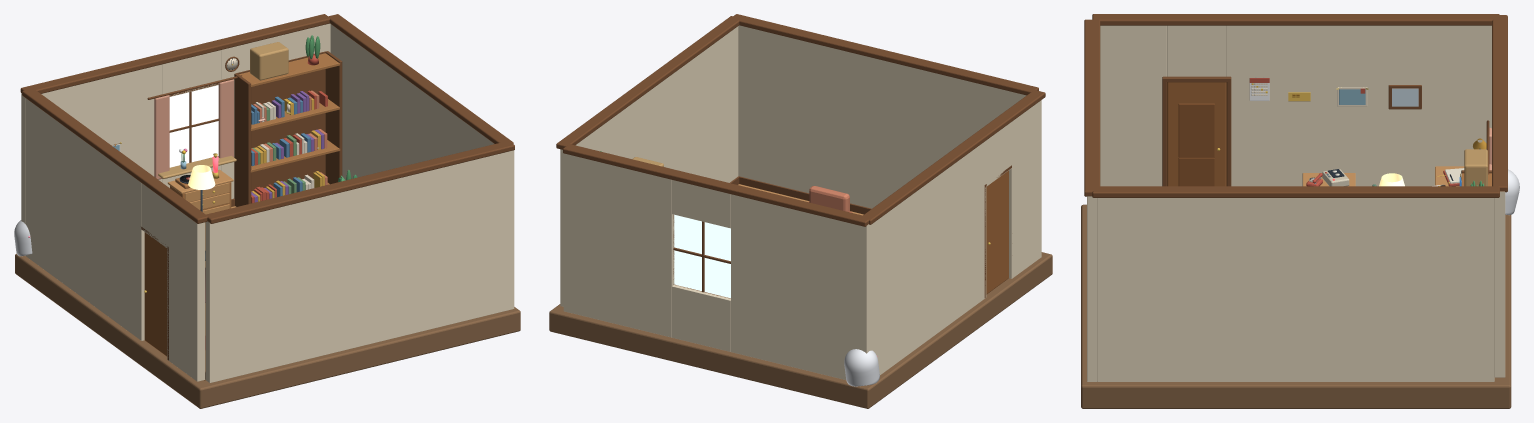
The model's file is room_cabin.glb.
3 renders of one model, left to right at view 1: azimuth 30°, elevation 25°; view 2: azimuth 150°, elevation 25°; view 3: azimuth 270°, elevation 25°, orthographic. The views are drawn at different scales.
Visible parts, largest first — view 1: wall_front, wall_left, wall_back, wall_right, slab, back.002, window_glass, window_curtains, leaf, side, side.001, wicker (+6 smaller); view 2: wall_back, wall_front, wall_left, wall_right, slab, window_glass, leaf, body.005, back.003, window_frame; view 3: wall_right, wall_left, slab, wall_front, wall_back, leaf, panel-top, door_frame, panel-bottom, wicker, photo, body.005 (+2 smaller).
Boxes of the visible parts, bbox=[...] form: wall_front: bbox=[205, 141, 514, 382]; wall_left: bbox=[22, 89, 207, 381]; wall_back: bbox=[20, 14, 330, 255]; wall_right: bbox=[328, 14, 513, 180]; slab: bbox=[15, 253, 520, 408]; back.002: bbox=[236, 51, 325, 191]; window_glass: bbox=[169, 85, 218, 167]; window_curtains: bbox=[147, 75, 242, 179]; leaf: bbox=[144, 232, 167, 356]; side: bbox=[234, 73, 251, 206]; side.001: bbox=[325, 51, 342, 184]; wicker: bbox=[250, 42, 288, 80]; wall_back: bbox=[563, 144, 871, 379]; wall_front: bbox=[731, 14, 1038, 214]; wall_left: bbox=[861, 90, 1045, 374]; wall_right: bbox=[556, 16, 739, 306]; slab: bbox=[549, 252, 1052, 408]; window_glass: bbox=[674, 214, 730, 298]; leaf: bbox=[986, 170, 1008, 294]; body.005: bbox=[844, 349, 879, 386]; back.003: bbox=[809, 186, 849, 211]; window_frame: bbox=[673, 215, 730, 298]; wall_right: bbox=[1092, 186, 1499, 381]; wall_left: bbox=[1092, 14, 1499, 186]; slab: bbox=[1081, 204, 1511, 408]; wall_front: bbox=[1084, 19, 1100, 381]; wall_back: bbox=[1492, 15, 1507, 377]; leaf: bbox=[1167, 82, 1226, 186]; panel-top: bbox=[1178, 103, 1214, 157]; door_frame: bbox=[1162, 76, 1231, 186]; panel-bottom: bbox=[1178, 157, 1214, 186]; wicker: bbox=[1464, 149, 1487, 186]; photo: bbox=[1392, 88, 1418, 106]; body.005: bbox=[1505, 169, 1519, 215].
Size of the model in its own units: 6.55 by 3.6 by 6.63.
